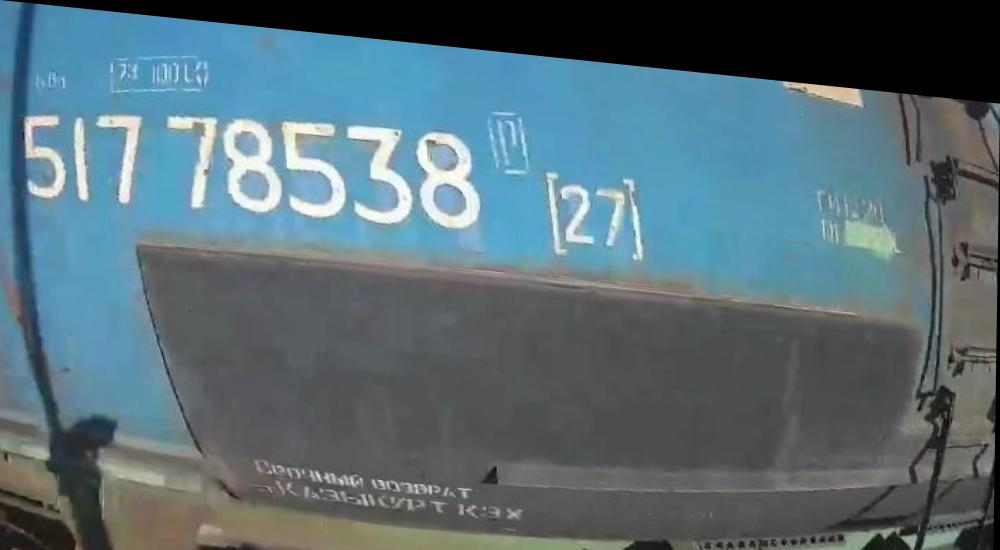Wagon-number: (18, 73, 488, 244)
